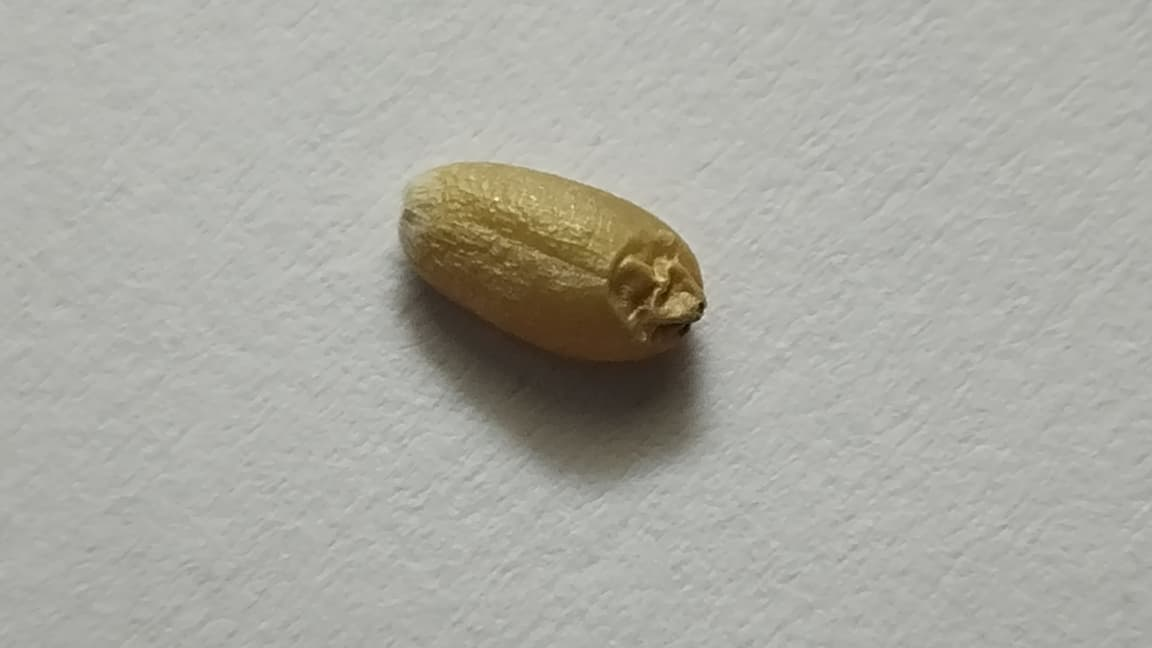healthy: (399, 161, 706, 362)
